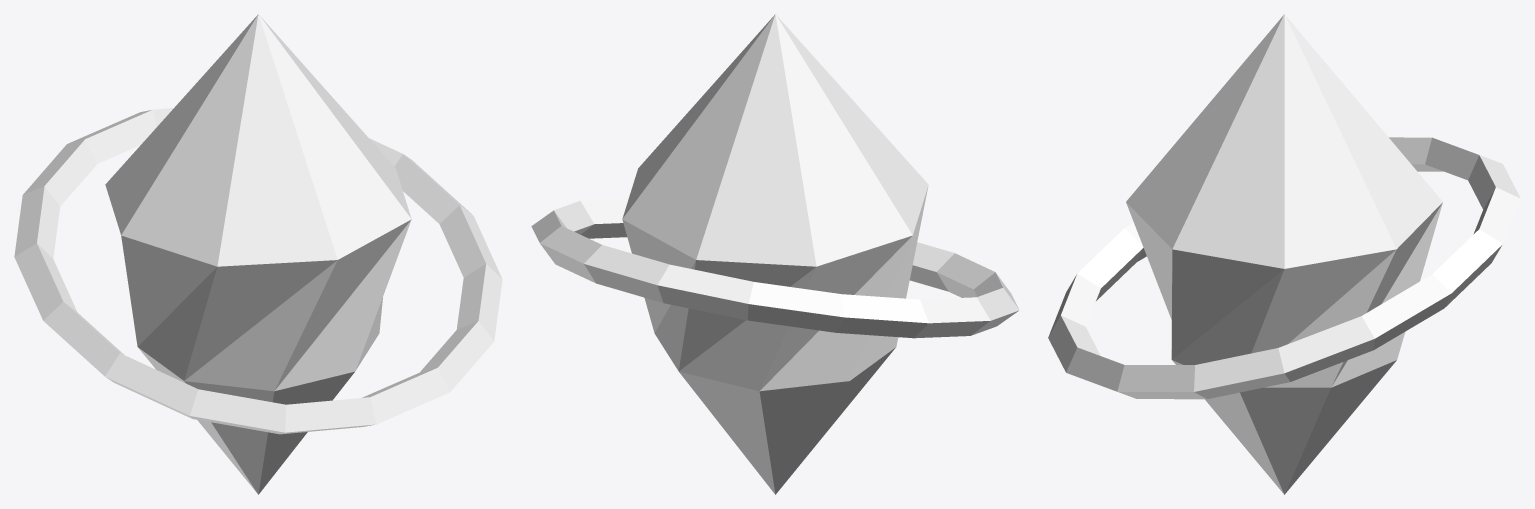
File: enemy_drop.obj
The picture shows the model from 3 angles, left to right: view 1: azimuth 30°, elevation 25°; view 2: azimuth 150°, elevation 25°; view 3: azimuth 270°, elevation 25°; orthographic projection.
Parts seen in each view (by area): view 1: SpiritDrop; view 2: SpiritDrop; view 3: SpiritDrop.
Part boxes in pixels (x1,y1,x2,y2): SpiritDrop: (14,14,502,494); SpiritDrop: (531,14,1019,494); SpiritDrop: (1048,14,1520,494).
Size of the model in its own units: 1.63 by 1.74 by 1.55.
Materials: 1 (1 with a texture image).
